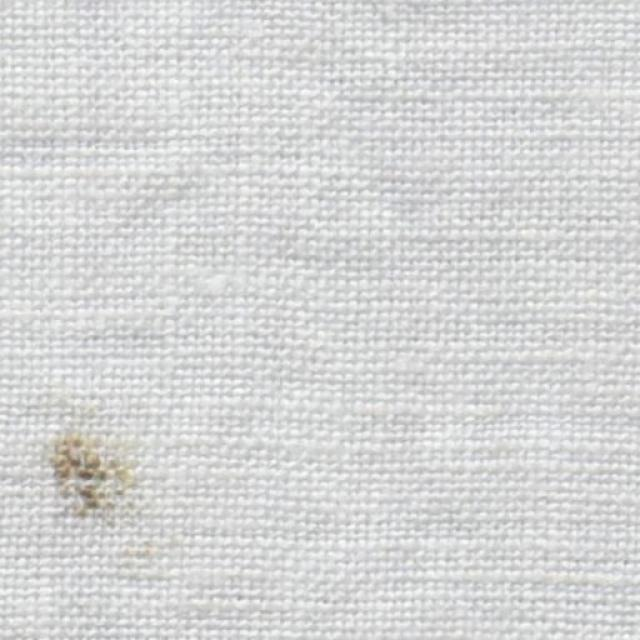Stain: (38, 426, 144, 530)
